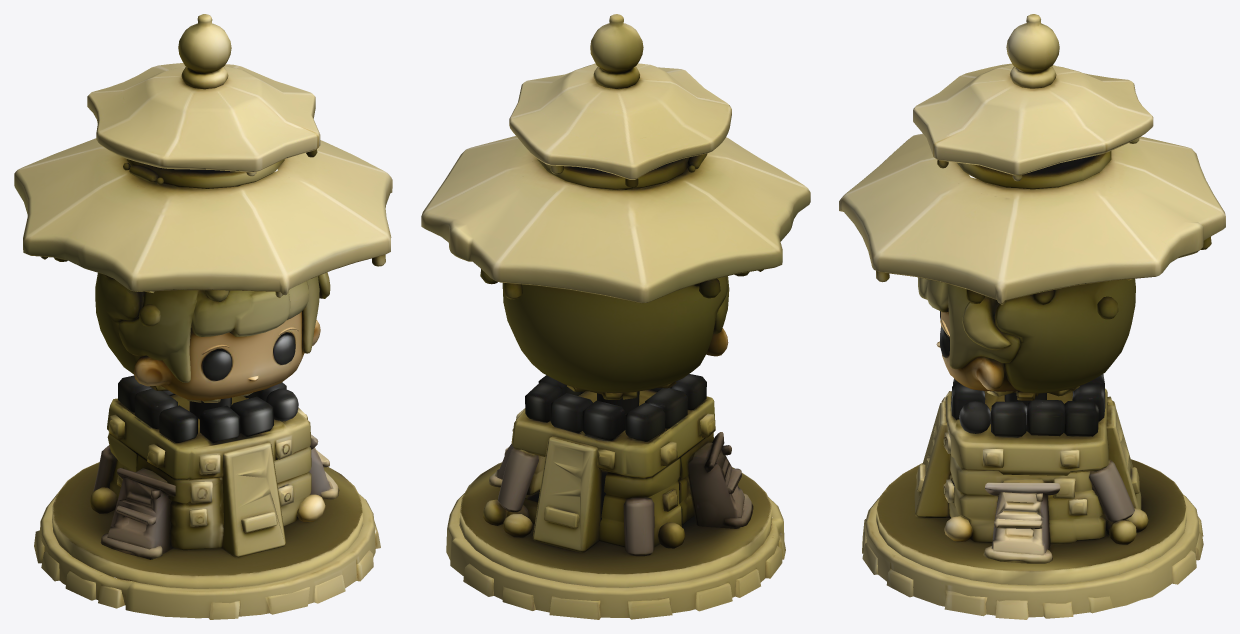
The model's file is myan-rook.glb.
3 views of the same model, side by side, from view 1: azimuth 30°, elevation 25°; view 2: azimuth 150°, elevation 25°; view 3: azimuth 270°, elevation 25° (orthographic).
Visible parts, largest first — view 1: tripo_5b0c0d9c_110c_4aa4_991c_4268ba4bb6f4; view 2: tripo_5b0c0d9c_110c_4aa4_991c_4268ba4bb6f4; view 3: tripo_5b0c0d9c_110c_4aa4_991c_4268ba4bb6f4.
Boxes of the visible parts, x1=… form: tripo_5b0c0d9c_110c_4aa4_991c_4268ba4bb6f4: x1=14, y1=14, x2=392, y2=619; tripo_5b0c0d9c_110c_4aa4_991c_4268ba4bb6f4: x1=421, y1=14, x2=810, y2=619; tripo_5b0c0d9c_110c_4aa4_991c_4268ba4bb6f4: x1=839, y1=14, x2=1225, y2=619.
Size of the model in its own units: 0.6772 by 0.9995 by 0.6616.
1 material, 1 textured.
